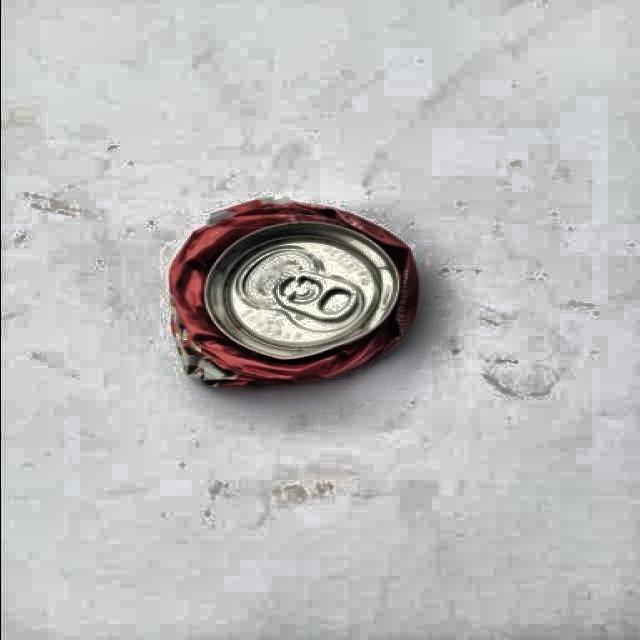metal: (170, 200, 420, 390)
